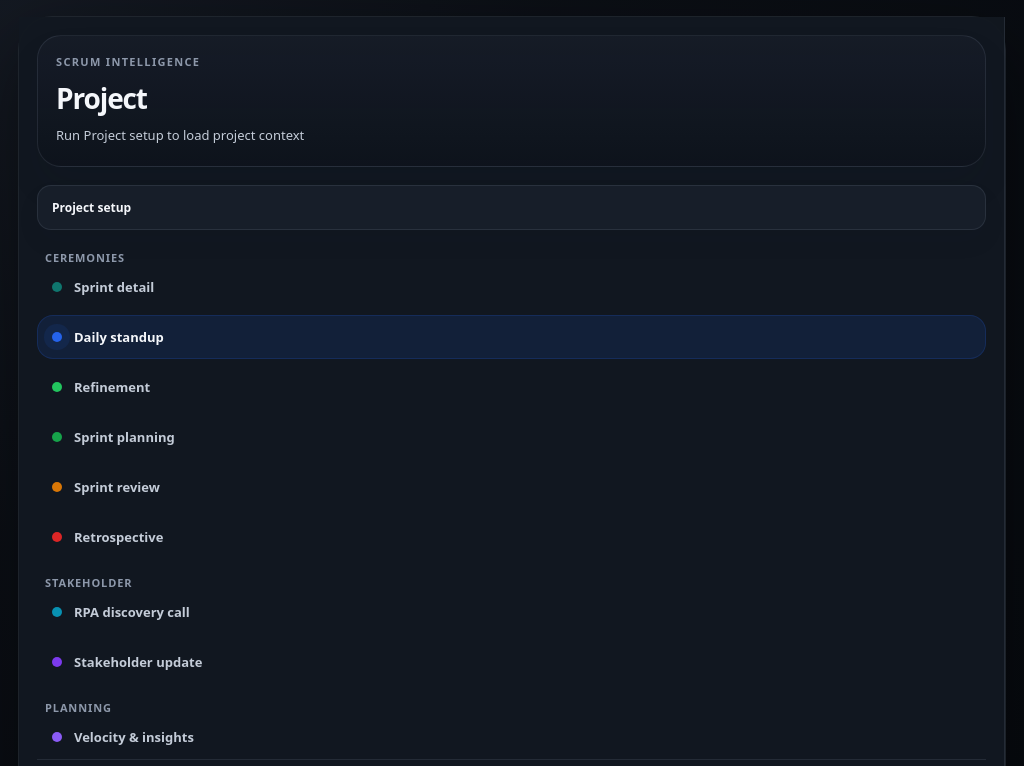
Test: sprint reference rolls up summaries and key insight from other tabs
Click the button "Sprint detail" at x=114, y=287, box x1=37 y1=265 x2=986 y2=309
(page scrolled)
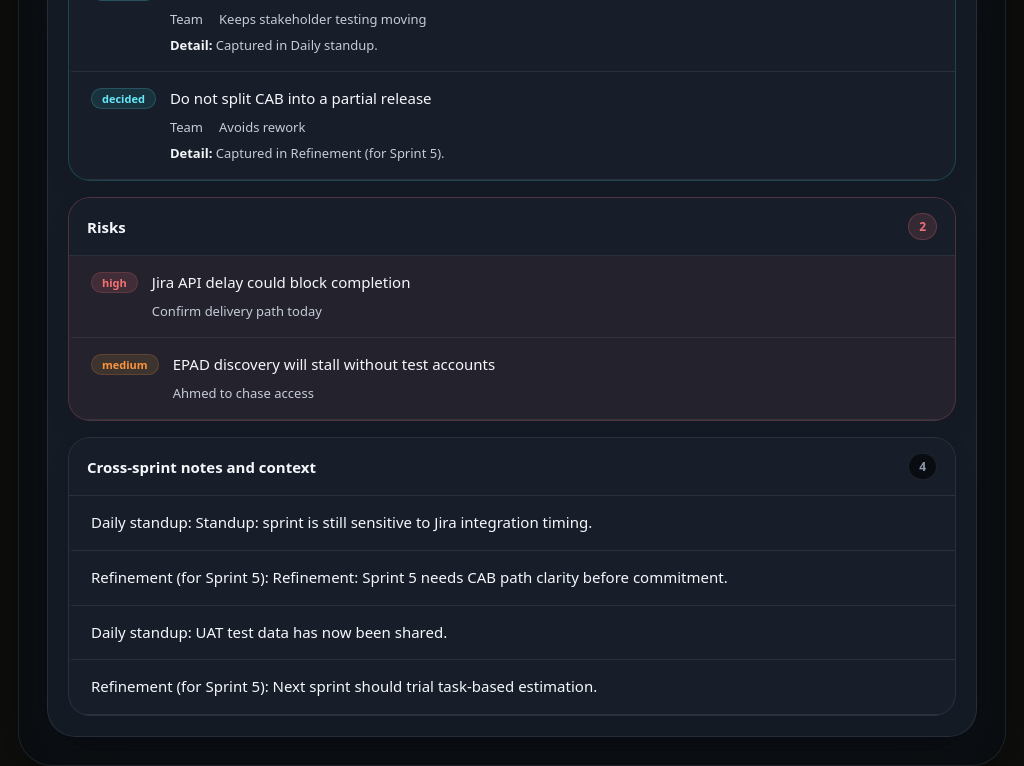
Check: the text "Cross-sprint notes and context" is shown, box x1=87 y1=456 x2=316 y2=476
Check: the text "Next sprint should trial task-based estimation." is shown, box x1=91 y1=676 x2=597 y2=696
